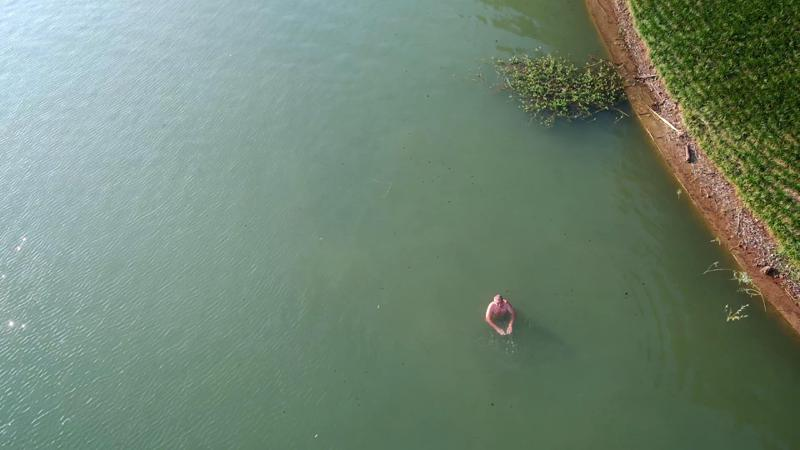swimmers: (483, 292, 515, 336)
